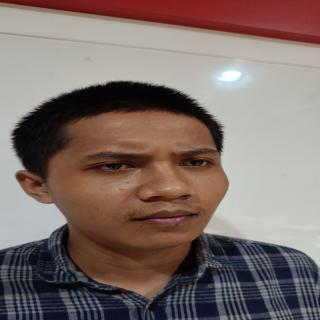Marah: (50, 107, 243, 251)
